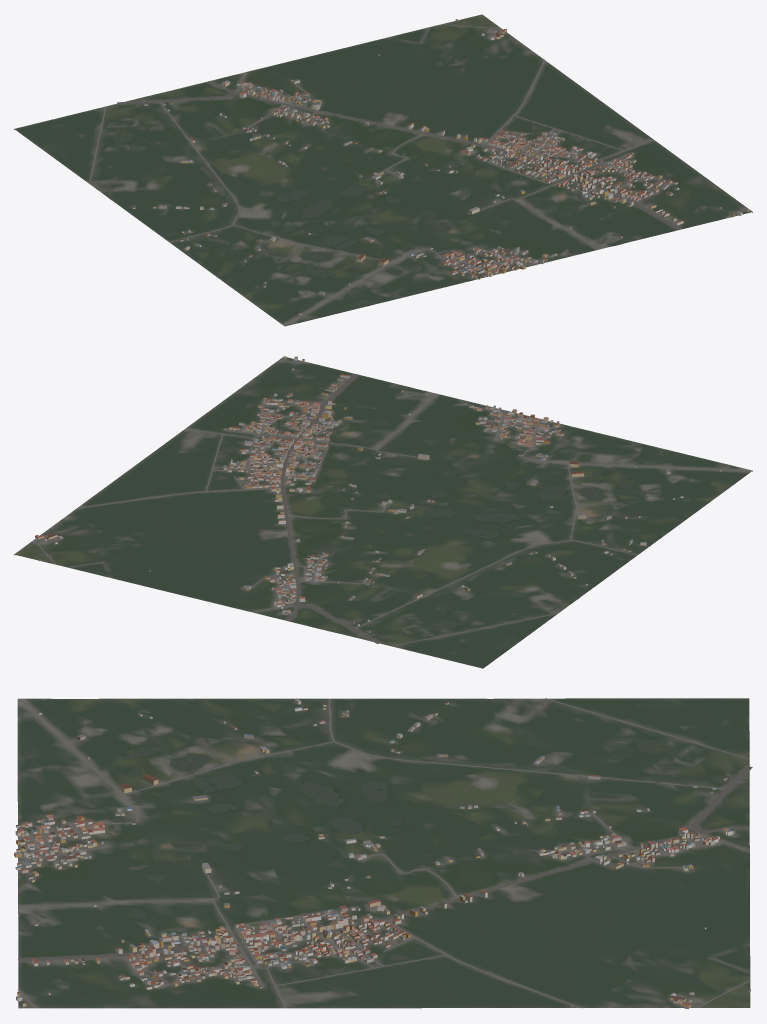
3 renders of one model, top to bottom at view 1: azimuth 30°, elevation 25°; view 2: azimuth 150°, elevation 25°; view 3: azimuth 270°, elevation 25°, orthographic. The views are drawn at different scales.
Parts seen in each view (by area): view 1: ground, buildings, roads, water; view 2: ground, buildings, roads, water; view 3: ground, buildings, roads, water.
Boxes of the visible parts, x1,y1,x2,y2 form: ground: (14, 14, 752, 326); buildings: (133, 19, 748, 314); roads: (89, 24, 746, 325); water: (94, 113, 619, 276); ground: (14, 356, 752, 668); buildings: (35, 356, 721, 632); roads: (33, 361, 751, 646); water: (361, 389, 676, 646); ground: (17, 698, 750, 1008); buildings: (14, 698, 750, 1009); roads: (18, 698, 752, 1008); water: (18, 699, 737, 920).
Bounding box in the file's own units: 1409 × 18.68 × 1415.
